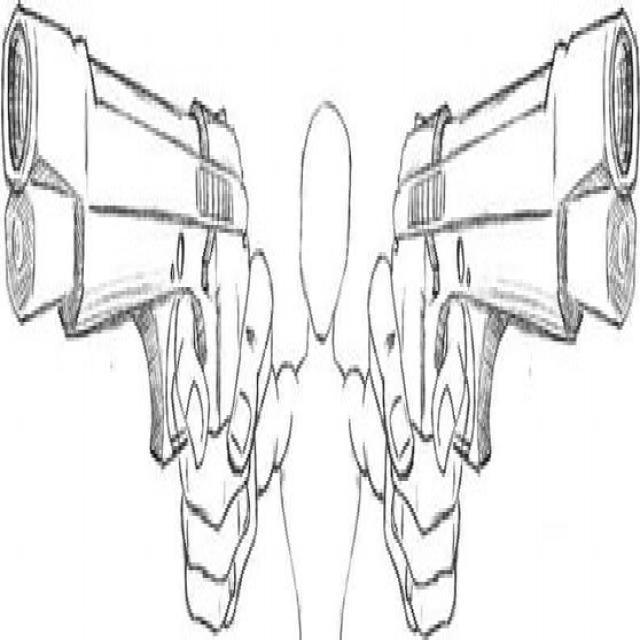gun: (364, 15, 640, 636), (0, 3, 269, 618)
